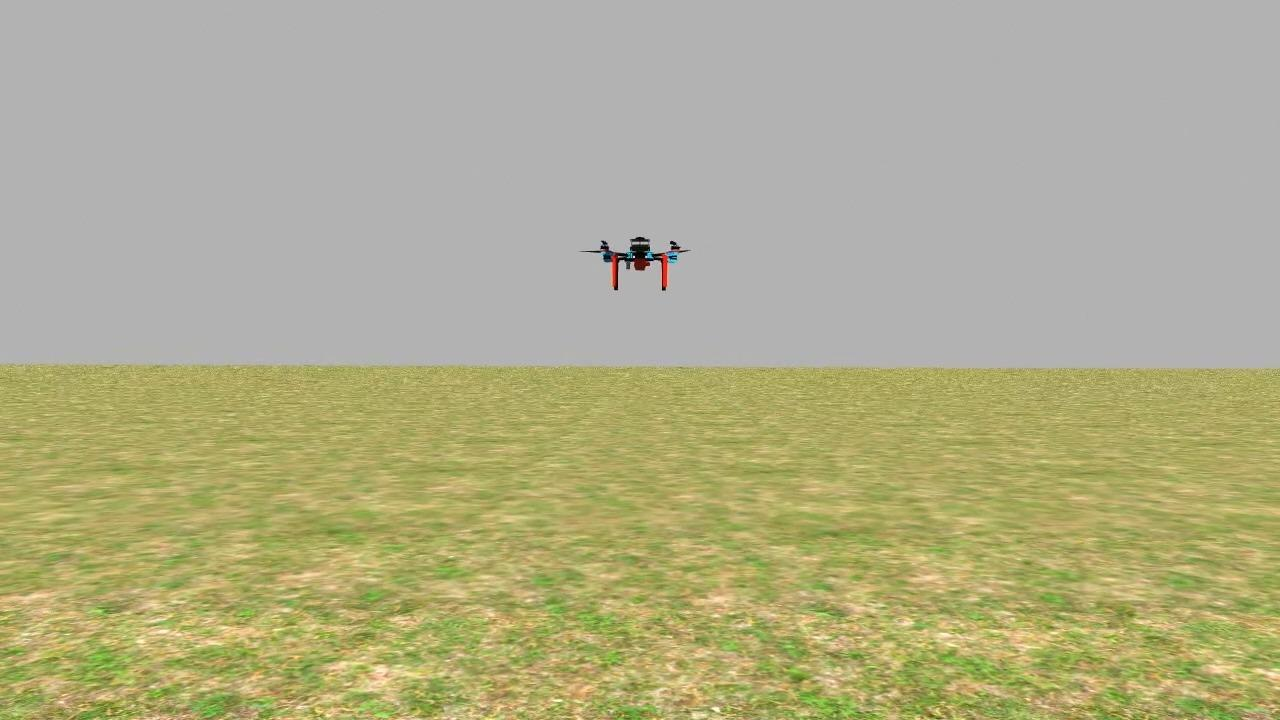UAV: (569, 224, 701, 299)
